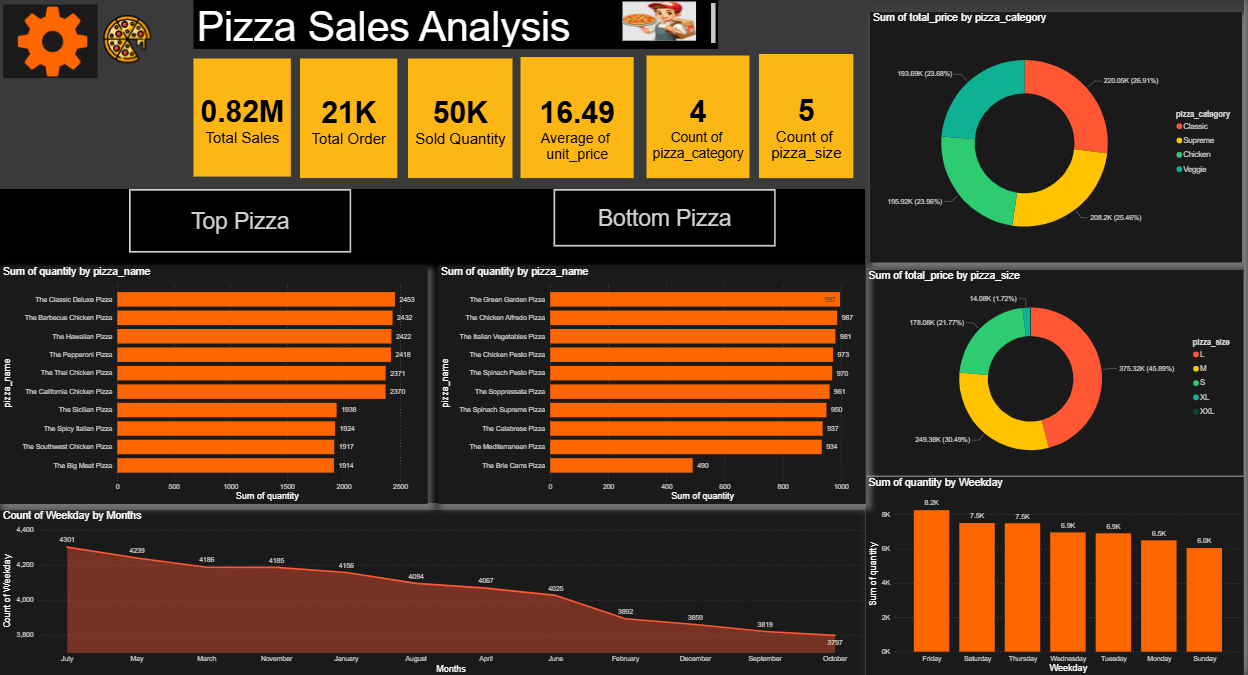

This screenshot's page, from the dashboard's own definition file:
{"tool":"powerbi","page":{"name":"Duplicate of Page 1","canvas":[2200,1200],"ordinal":0},"visuals":[{"type":"donutChart","fields":{"Category":["pizza_sales.pizza_category"],"Y":["Sum(pizza_sales.total_price)"]},"box":[1538.5,27,657.5,442.7],"z":0,"group":"g1"},{"type":"barChart","fields":{"Category":["pizza_sales.pizza_name"],"Y":["Sum(pizza_sales.quantity)"]},"box":[773.2,473.8,755.9,421.3],"z":0,"group":"g2"},{"type":"areaChart","fields":{"Category":["pizza_sales.Months"],"Y":["CountNonNull(pizza_sales.Weekday)"]},"box":[0,906.6,1529.6,294.3],"z":0},{"type":"group","id":"g1","title":"Group 1","box":[1529.6,27,669,1172.6],"z":1000},{"type":"card","fields":{"Values":["pizza_sales.Total Sales"]},"box":[342,108.6,171.8,208.8],"z":1000,"group":"g3"},{"type":"barChart","fields":{"Category":["pizza_sales.pizza_name"],"Y":["Sum(pizza_sales.quantity)"]},"box":[0,473.8,755.9,421.3],"z":1000,"group":"g2"},{"type":"donutChart","fields":{"Y":["Sum(pizza_sales.total_price)"],"Category":["pizza_sales.pizza_size"]},"box":[1530.6,483,668.1,363.2],"z":1000,"group":"g1"},{"type":"group","id":"g2","title":"Group 4","box":[0,339.3,1529.6,554.1],"z":2000},{"type":"actionButton","box":[228.3,339.3,392.9,112.5],"z":2000,"group":"g2"},{"type":"columnChart","fields":{"Category":["pizza_sales.Weekday"],"Y":["Sum(pizza_sales.quantity)"]},"box":[1529.6,848.3,668.5,351.4],"z":2000,"group":"g1"},{"type":"image","title":"show","box":[0,3.2,177.7,151.9],"z":3000},{"type":"card","fields":{"Values":["pizza_sales.Total Order"]},"box":[529.5,108.6,171.8,211.4],"z":3000,"group":"g3"},{"type":"actionButton","box":[978.6,339.3,392.9,101.7],"z":3000,"group":"g2"},{"type":"card","fields":{"Values":["Avg(pizza_sales.unit_price)"]},"box":[920.5,106.7,199.8,214.1],"z":4000,"group":"g3"},{"type":"actionButton","box":[159.9,0,131.5,149.3],"z":5000},{"type":"card","fields":{"Values":["pizza_sales.Sold Quantity"]},"box":[720.6,109.3,184.8,211.4],"z":5000,"group":"g3"},{"type":"textbox","box":[342.4,4.3,927.4,86.7],"z":6000},{"type":"actionButton","box":[1100.7,8.7,130,69.3],"z":7000},{"type":"card","fields":{"Values":["Count(pizza_sales.pizza_category)"]},"box":[1141.3,103.3,182.3,216.7],"z":7000,"group":"g3"},{"type":"group","id":"g3","title":"Group 2","box":[342,100.7,1166.4,220],"z":8000},{"type":"card","fields":{"Values":["Count(pizza_sales.pizza_size)"]},"box":[1341.8,100.7,166.6,219.3],"z":9000,"group":"g3"}]}

Visuals, with their boxes in screenshot pixels (x1, y1, x2, y2), scaled from the page's 2200x1200 canvas onto the 1248x675 screenshot:
donutChart - pizza_sales.pizza_category x Sum(pizza_sales.total_price): 873 15 1246 264
barChart - pizza_sales.pizza_name x Sum(pizza_sales.quantity): 439 267 867 503
areaChart - pizza_sales.Months x CountNonNull(pizza_sales.Weekday): 0 510 868 674
"Group 1" group: 868 15 1247 674
card - pizza_sales.Total Sales: 194 61 291 179
barChart - pizza_sales.pizza_name x Sum(pizza_sales.quantity): 0 267 429 503
donutChart - Sum(pizza_sales.total_price) x pizza_sales.pizza_size: 868 272 1247 476
"Group 4" group: 0 191 868 503
actionButton: 130 191 352 254
columnChart - pizza_sales.Weekday x Sum(pizza_sales.quantity): 868 477 1247 674
"show" image: 0 2 101 87
card - pizza_sales.Total Order: 300 61 398 180
actionButton: 555 191 778 248
card - Avg(pizza_sales.unit_price): 522 60 636 180
actionButton: 91 0 165 84
card - pizza_sales.Sold Quantity: 409 61 514 180
textbox: 194 2 720 51
actionButton: 624 5 698 44
card - Count(pizza_sales.pizza_category): 647 58 751 180
"Group 2" group: 194 57 856 180
card - Count(pizza_sales.pizza_size): 761 57 856 180
